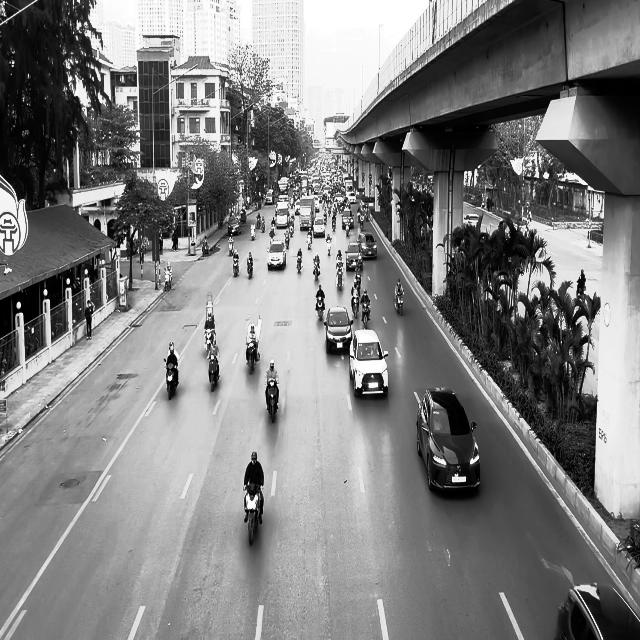car: (414, 386, 481, 493), (553, 582, 640, 640), (348, 328, 388, 398), (324, 306, 354, 354), (266, 241, 286, 270), (357, 232, 377, 258), (345, 243, 363, 271), (463, 212, 480, 230)
motorbike: (243, 482, 263, 546), (164, 357, 178, 400), (265, 380, 279, 422), (208, 353, 220, 391), (246, 341, 259, 374), (360, 300, 370, 329), (204, 328, 215, 354), (394, 289, 404, 316), (315, 294, 325, 321), (336, 265, 343, 290), (313, 258, 320, 280), (296, 254, 303, 273), (233, 256, 239, 276), (247, 258, 253, 278)
